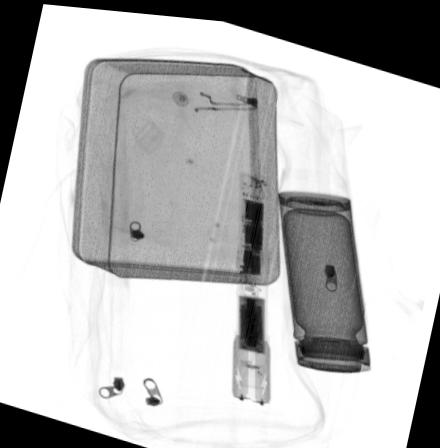Baton: (228, 163, 272, 401)
